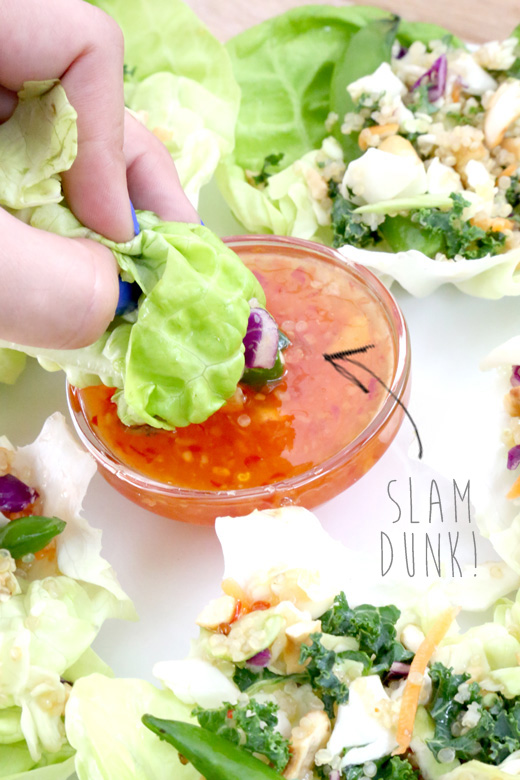chopped lettuce: (232, 586, 506, 779), (302, 46, 483, 251), (123, 242, 238, 411)
